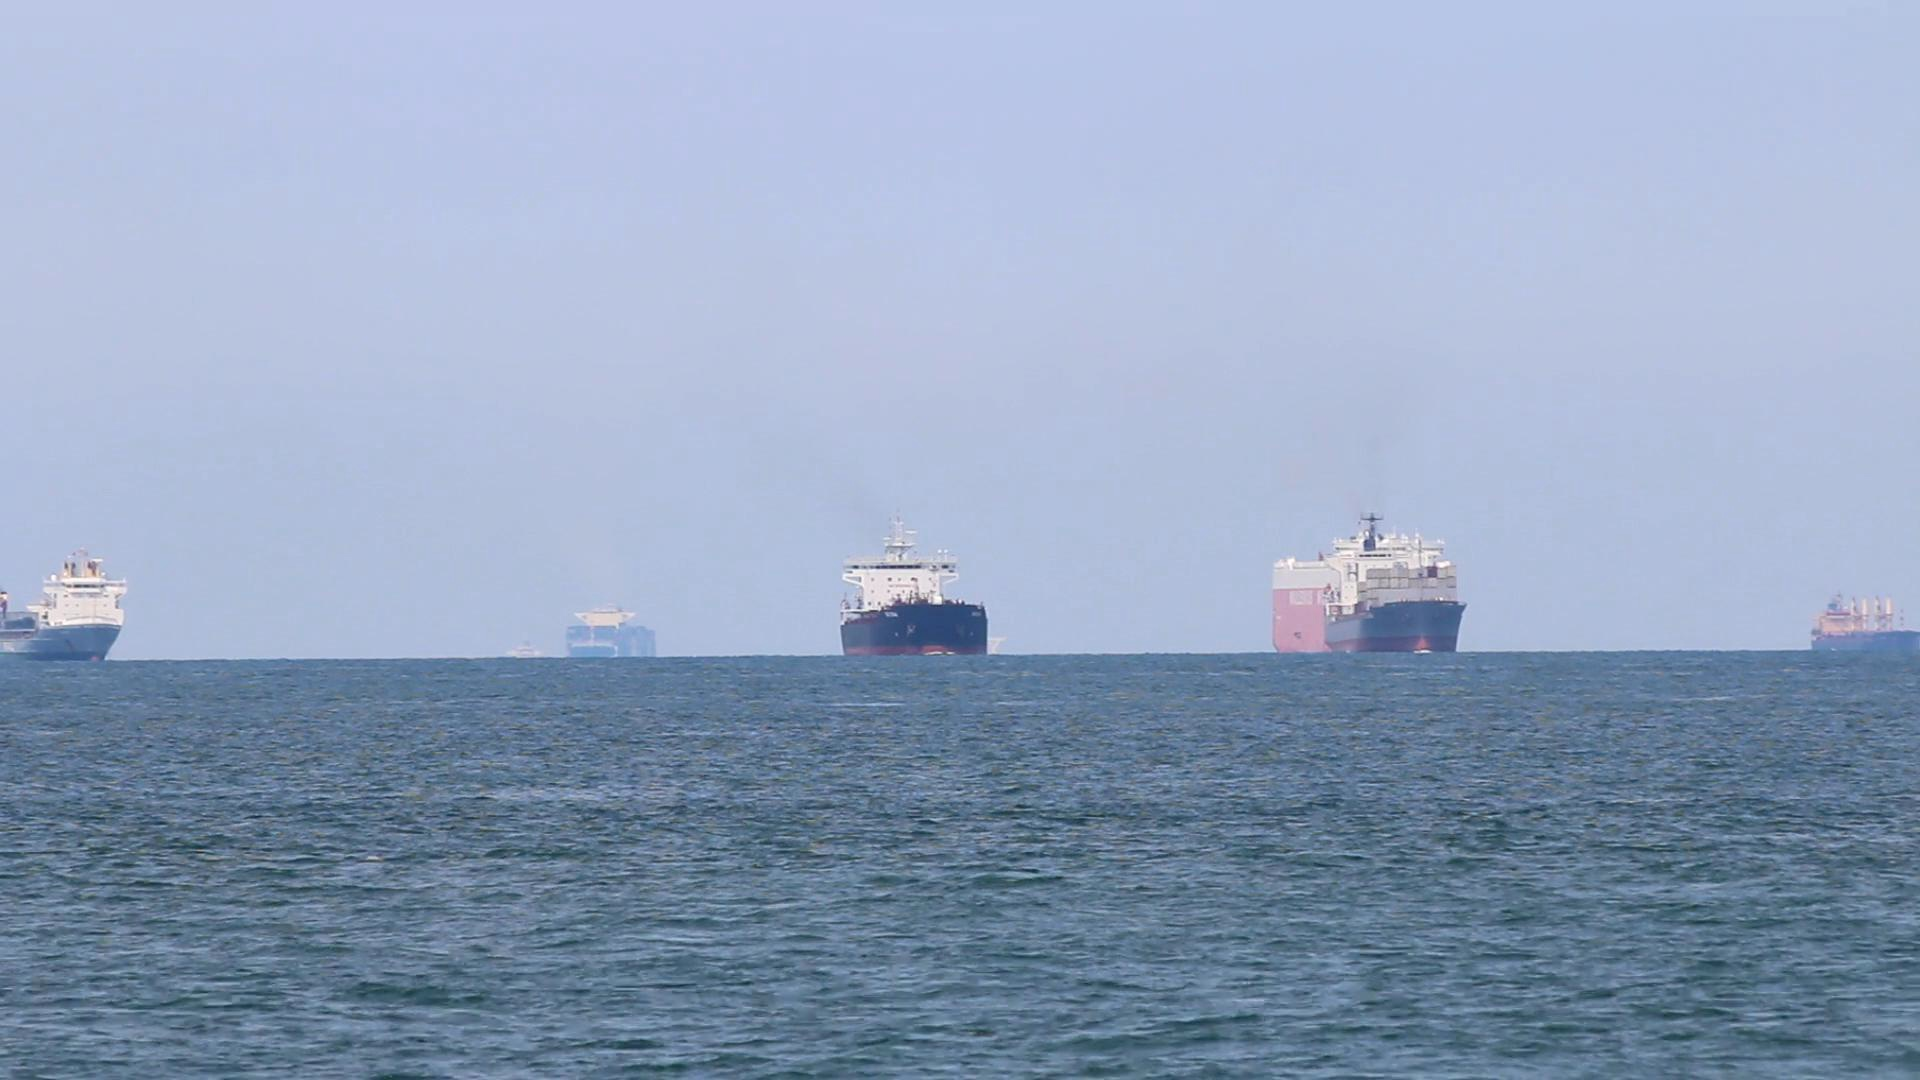Container Ship: (1269, 513, 1472, 659), (837, 514, 992, 665), (3, 545, 128, 669), (1807, 587, 1917, 654), (563, 604, 662, 663), (500, 634, 562, 663)
